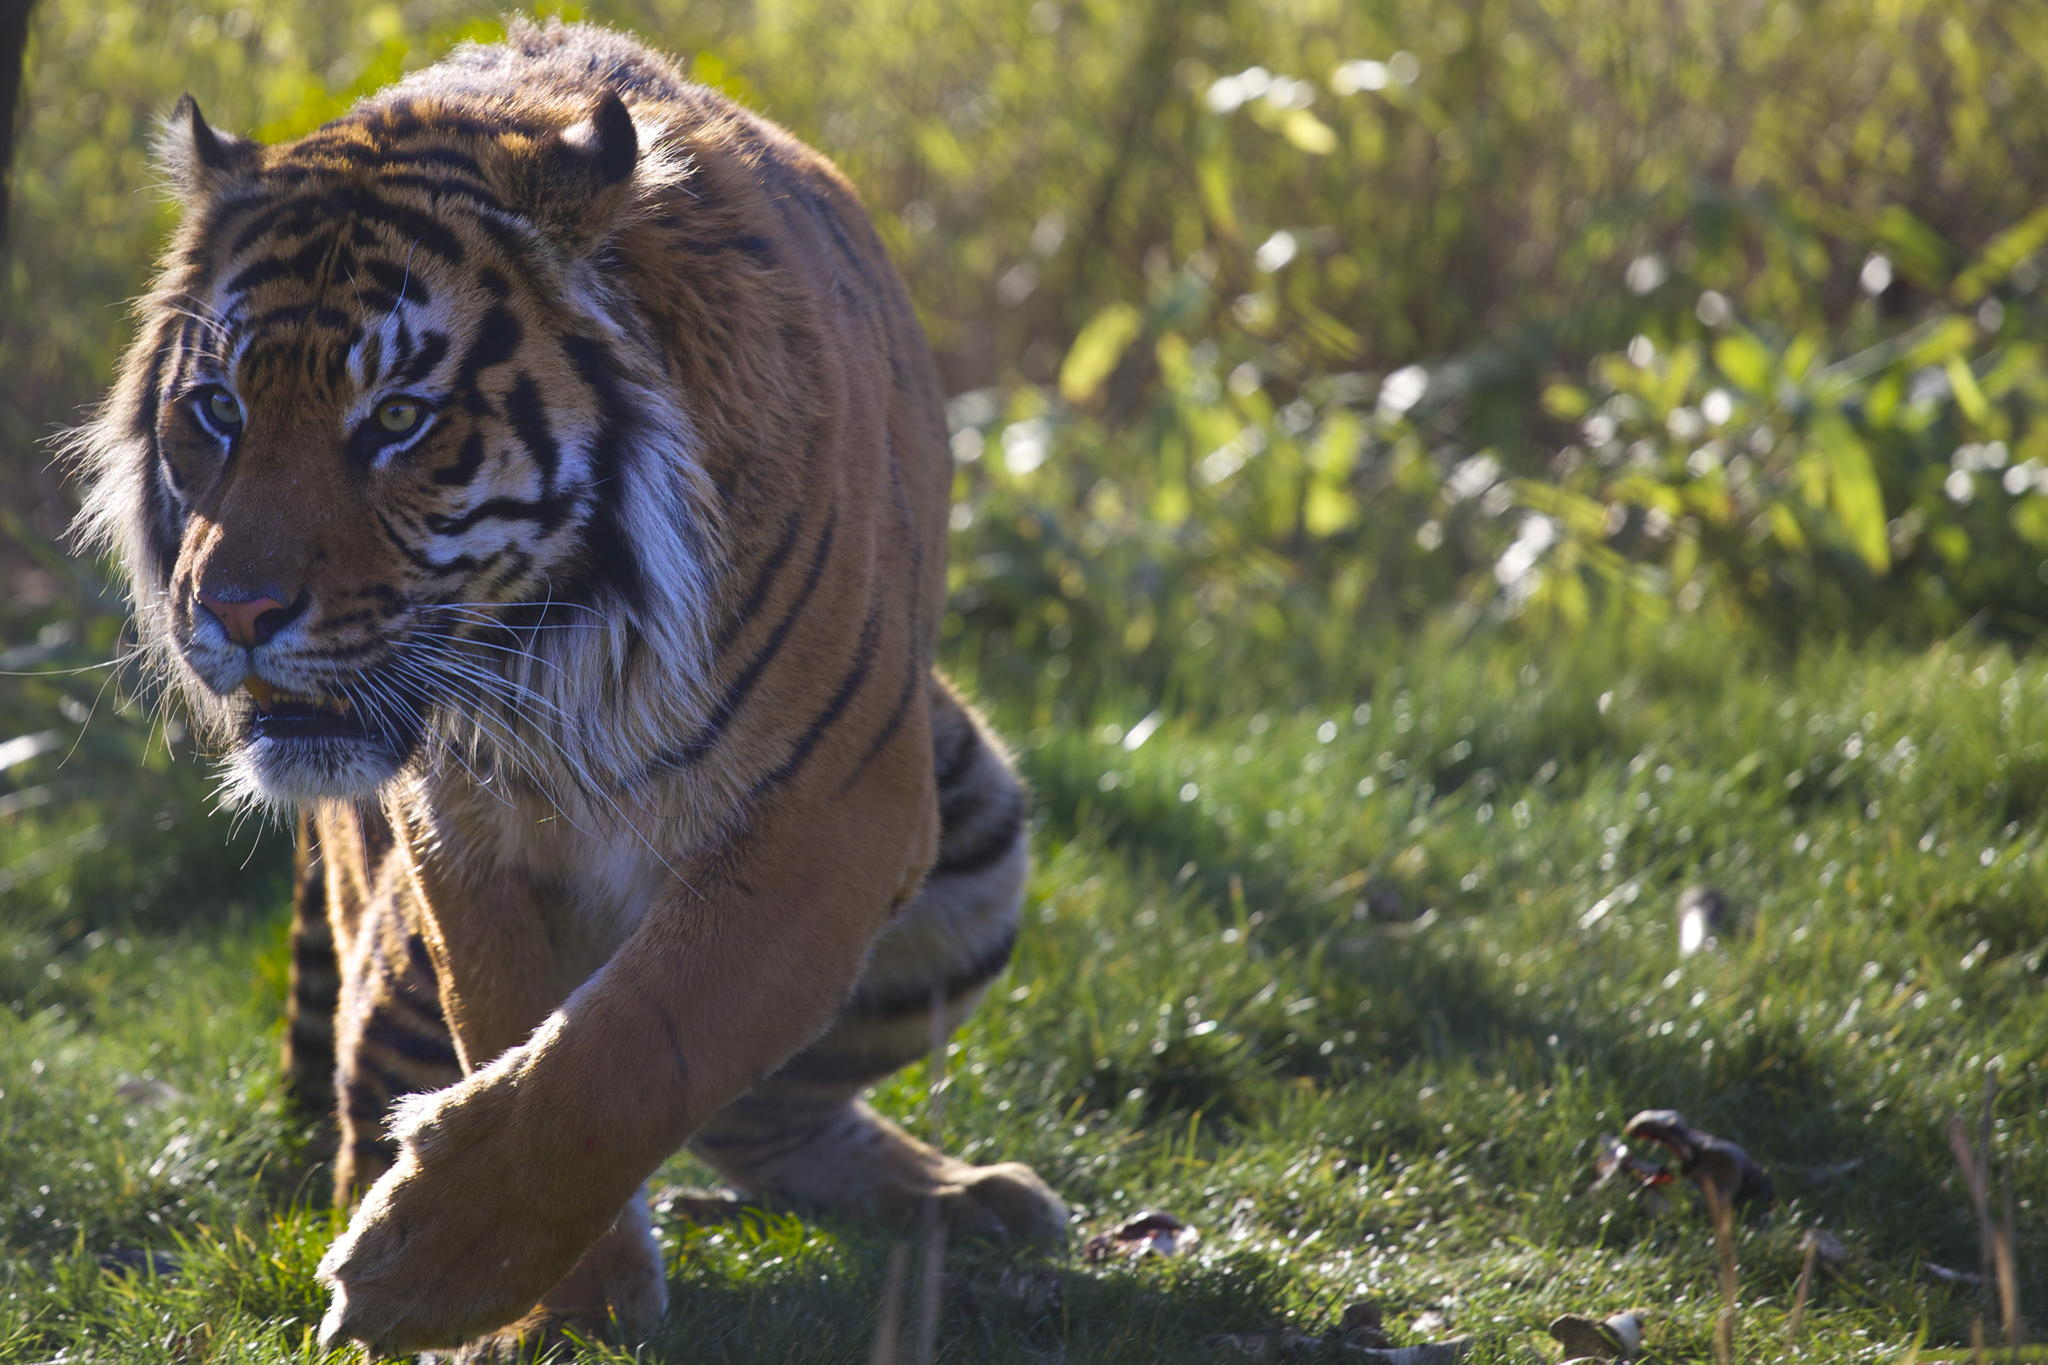tiger: (102, 40, 1078, 1309)
